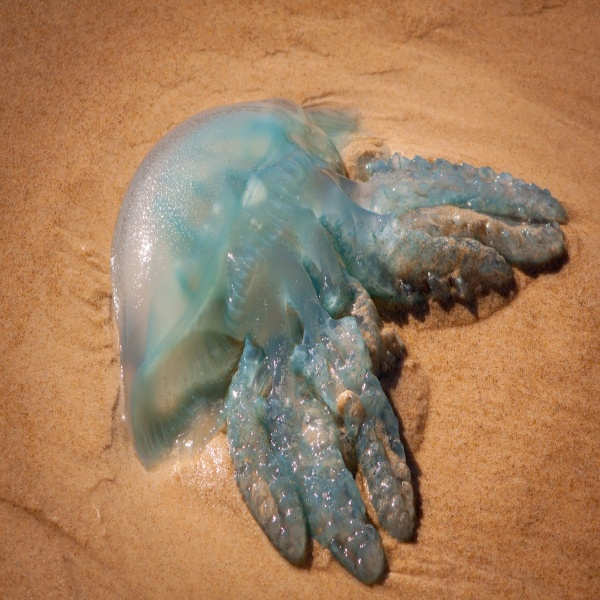Jellyfish: (104, 95, 567, 589)
